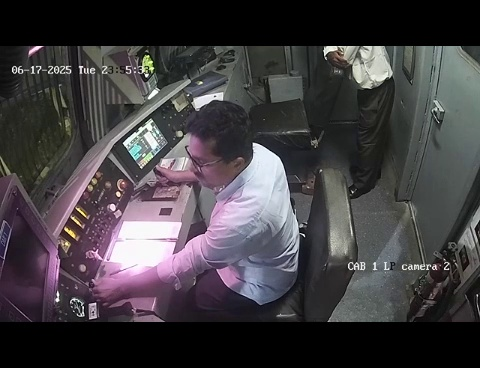horn_active: (69, 263, 131, 318)
